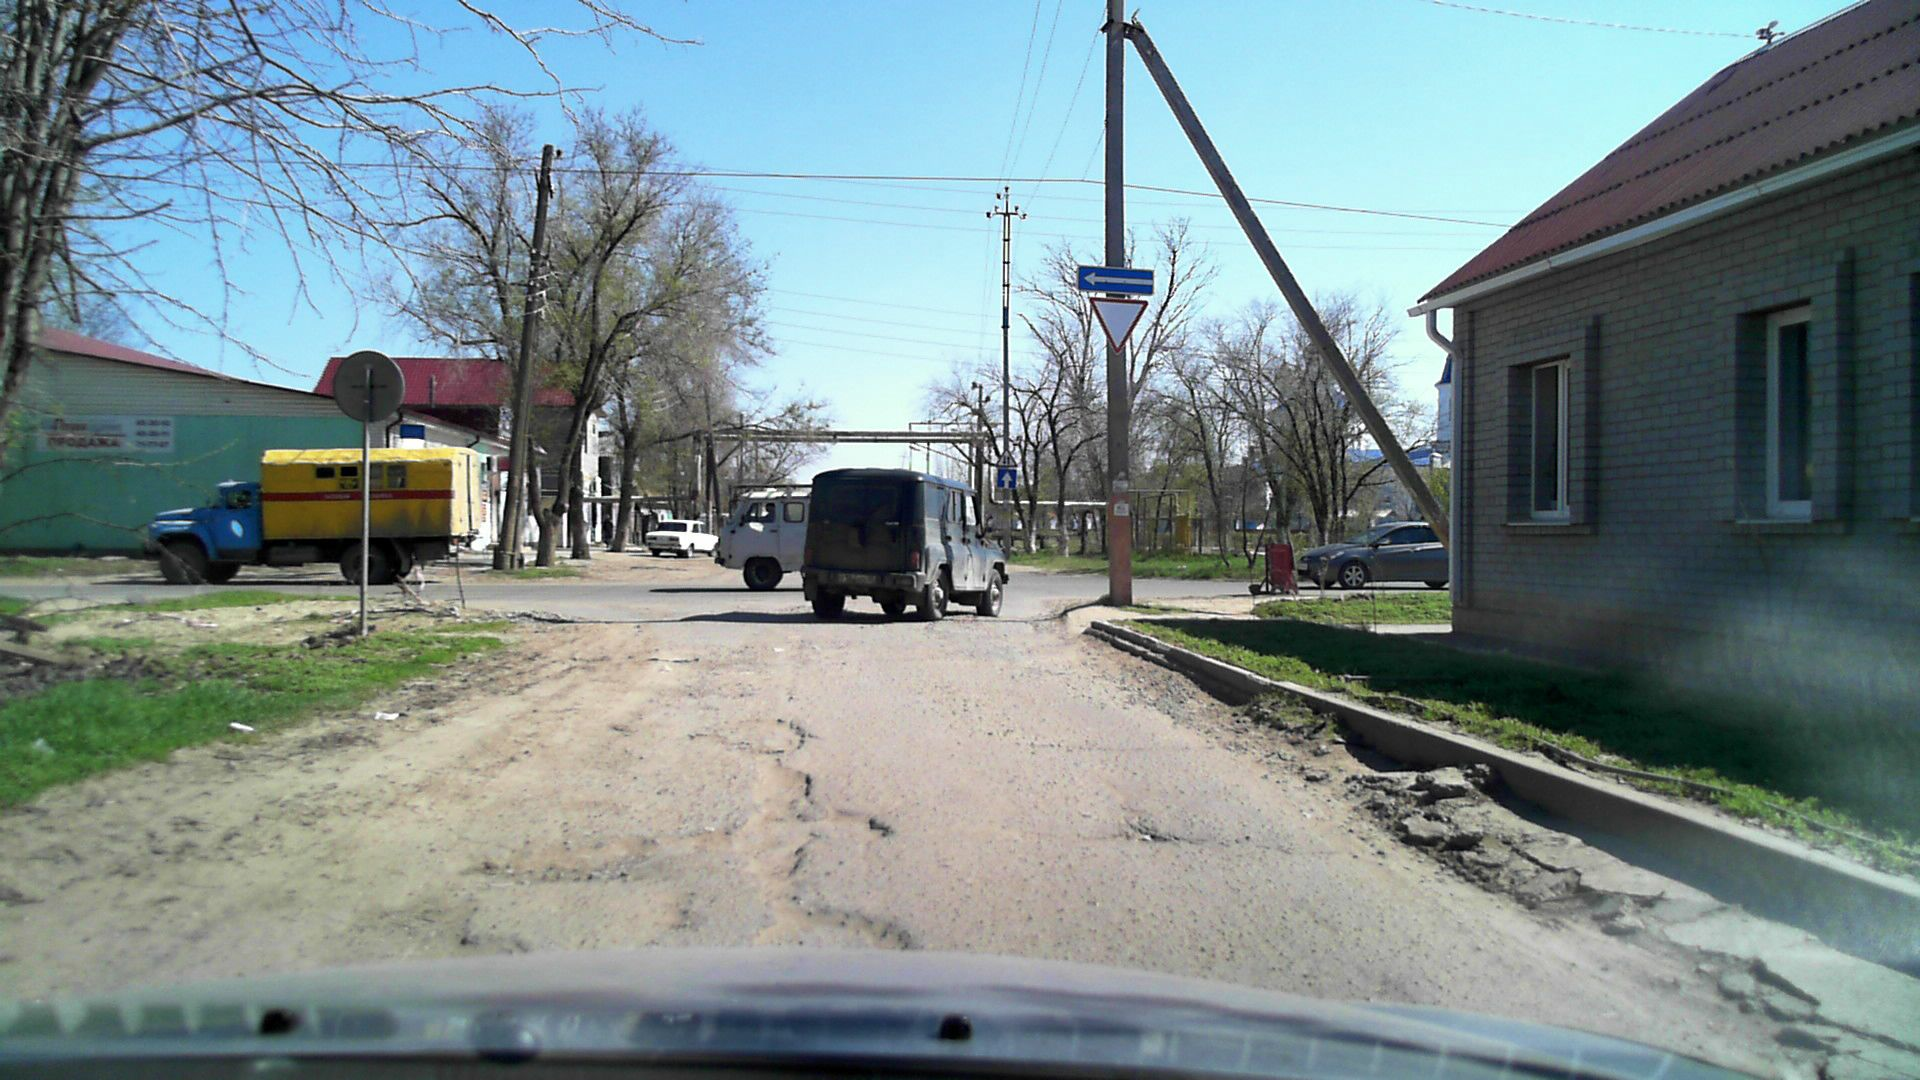One-Way Traffic: (1077, 265, 1154, 295)
